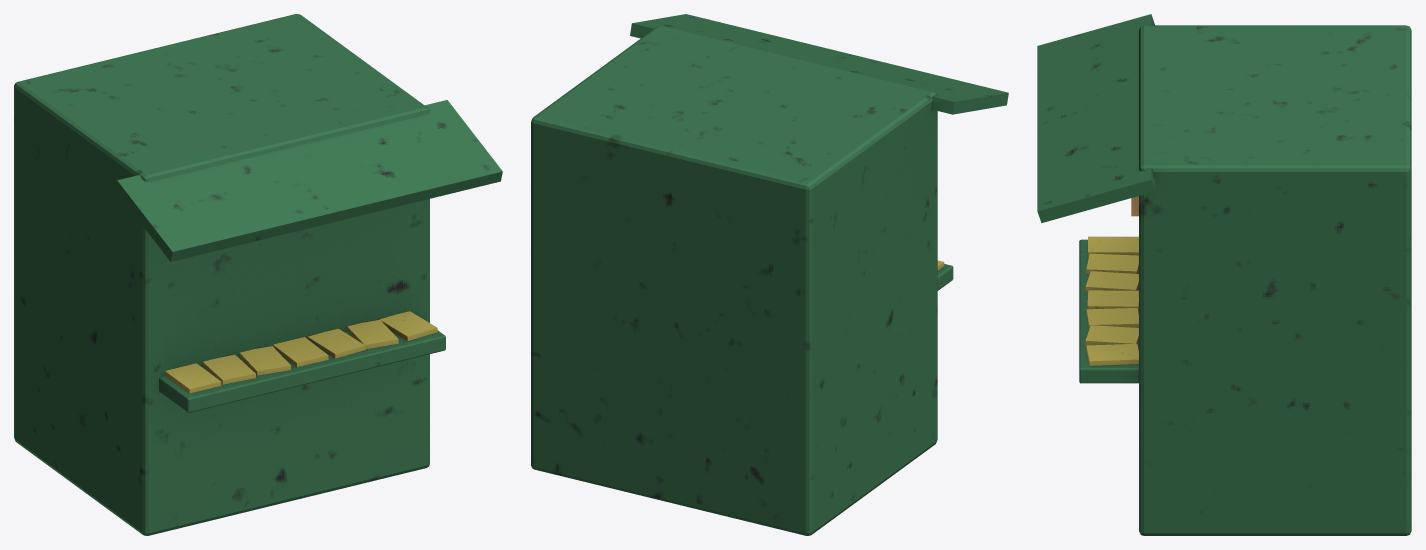
Rendered from city_kiosk.glb.
3 views of the same model, side by side, from view 1: azimuth 30°, elevation 25°; view 2: azimuth 150°, elevation 25°; view 3: azimuth 270°, elevation 25° (orthographic). The views are drawn at different scales.
Parts seen in each view (by area): view 1: city_kiosk; view 2: city_kiosk; view 3: city_kiosk.
Boxes of the visible parts, x1,y1,x2,y2 form: city_kiosk: (14,14,502,535); city_kiosk: (531,14,1008,535); city_kiosk: (1037,14,1411,535).
Bounding box in the file's own units: 2.3 × 2.4 × 2.2.
3 materials, 3 textured.
